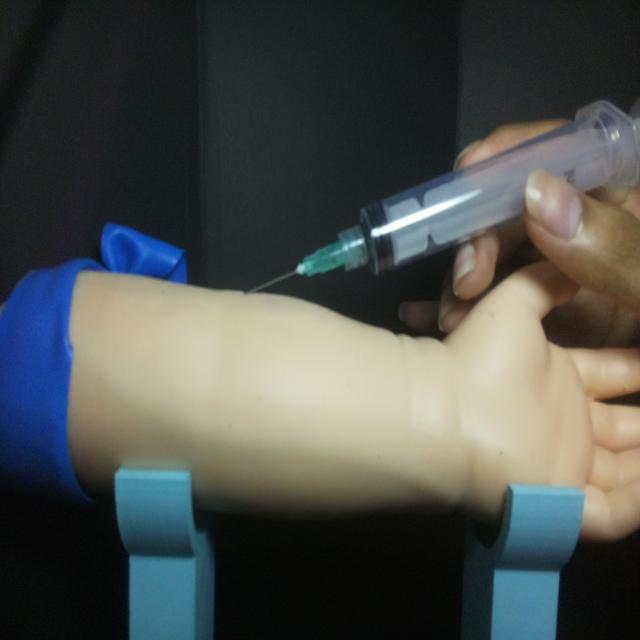17deg: (242, 94, 638, 298)
